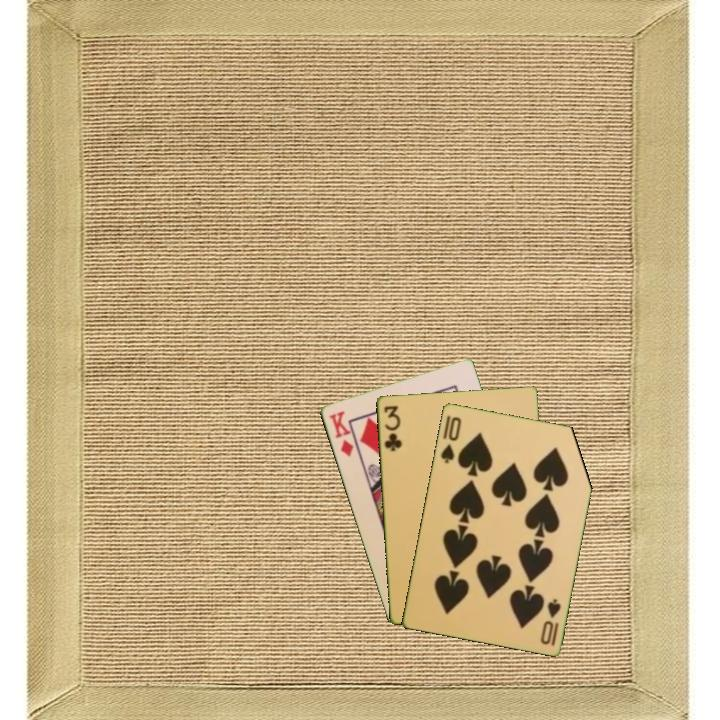10s: (437, 413, 464, 466), (537, 595, 564, 648)
3c: (380, 402, 404, 453)
Kd: (325, 407, 356, 460)
